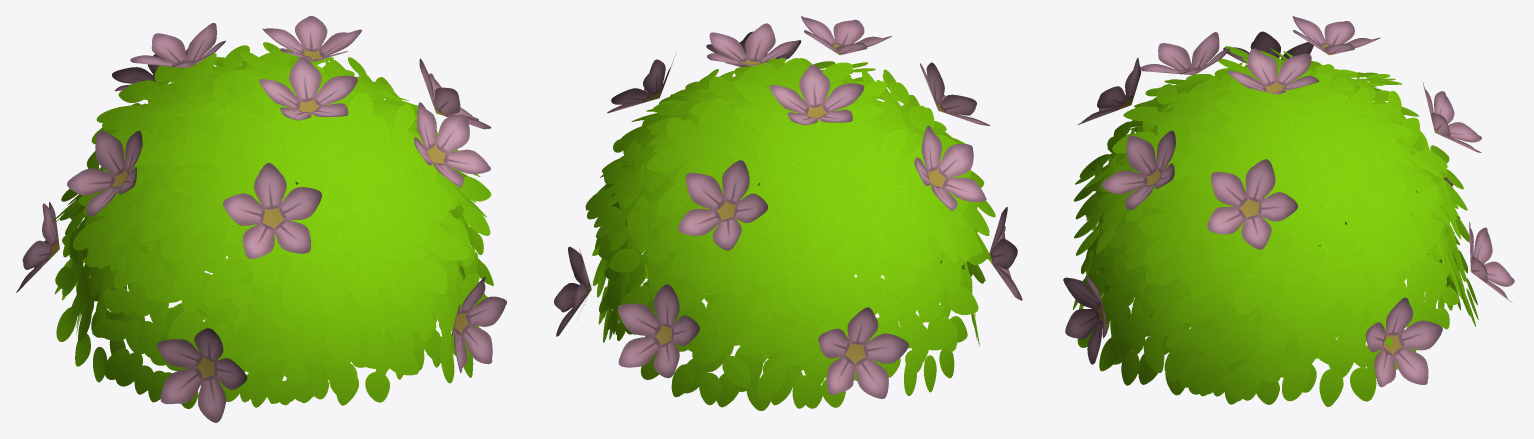
Rendered from Bush_Flowers.glb.
3 renders of one model, left to right at view 1: azimuth 30°, elevation 25°; view 2: azimuth 150°, elevation 25°; view 3: azimuth 270°, elevation 25°, orthographic. The views are drawn at different scales.
Visible parts, largest first — view 1: Bush_Flowers; view 2: Bush_Flowers; view 3: Bush_Flowers.
Boxes of the visible parts, x1,y1,x2,y2 form: Bush_Flowers: (16, 16, 506, 422); Bush_Flowers: (554, 16, 1022, 410); Bush_Flowers: (1063, 16, 1514, 406).
Bounding box in the file's own units: 1.09 × 0.7585 × 1.11.
2 materials, 2 textured.
